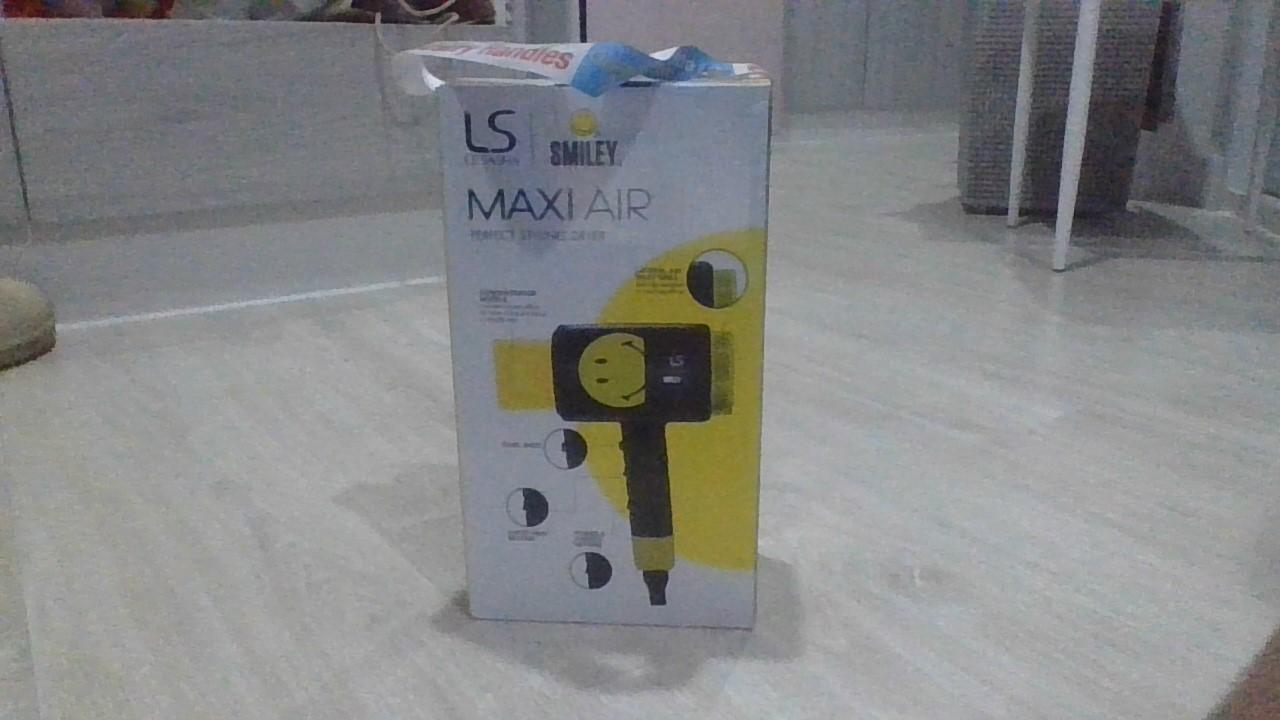IRON: (410, 39, 777, 634)
